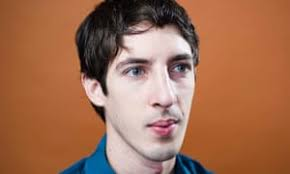white_male: (91, 38, 194, 138)
